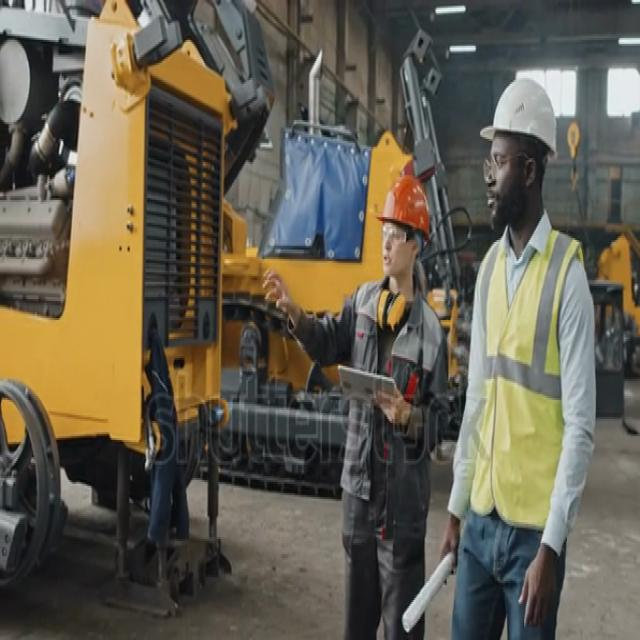goggles: (476, 146, 527, 186), (378, 216, 416, 250)
